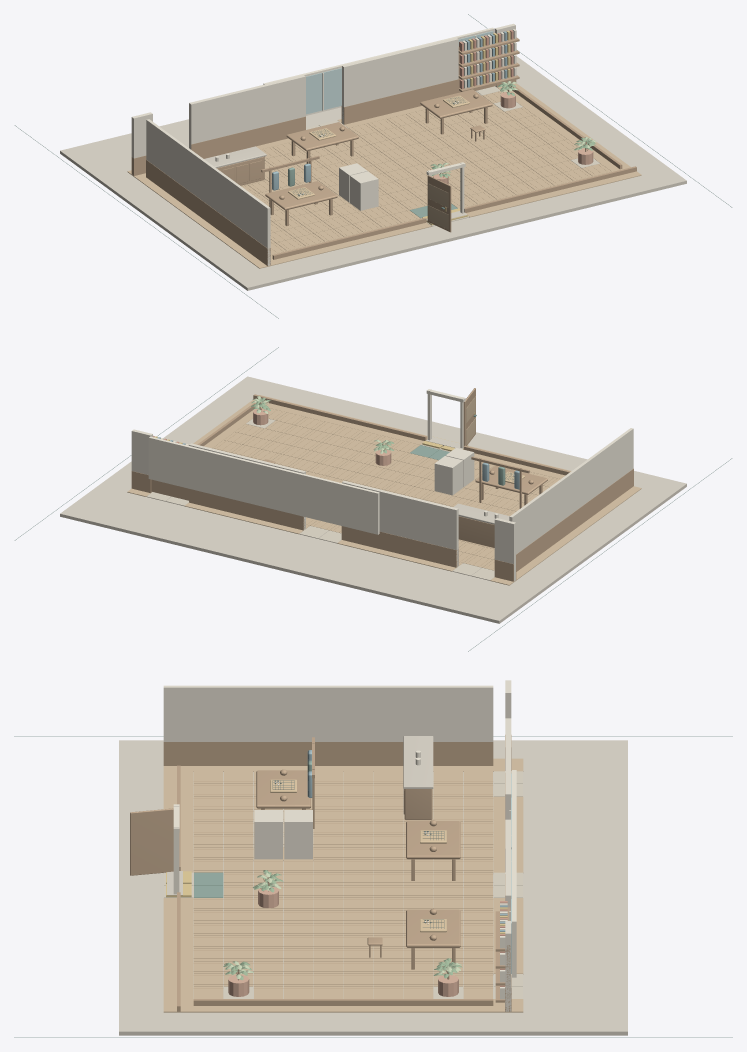
File: room.glb
The picture shows the model from 3 angles, top to bottom: view 1: azimuth 30°, elevation 25°; view 2: azimuth 150°, elevation 25°; view 3: azimuth 270°, elevation 25°; orthographic projection. The views are drawn at different scales.
Parts seen in each view (by area): view 1: wall foundation, building slab, wainscot, cutaway wall, cup, cold glass, coat, book, door threshold, goban, terracotta planter, surrounding corridor seam (+2 smaller); view 2: building slab, wall foundation, wainscot, cutaway wall, cup, ground, surrounding corridor seam; view 3: wall foundation, building slab, wainscot, cutaway wall, cup, ground, terracotta planter, goban, surrounding corridor seam, individual ficus leaves, ground.174.
Part boxes in pixels (bbox=[...]): wall foundation: bbox=[127, 83, 641, 268]; building slab: bbox=[60, 56, 686, 290]; wainscot: bbox=[131, 37, 636, 265]; cutaway wall: bbox=[131, 23, 515, 265]; cup: bbox=[215, 27, 516, 213]; cold glass: bbox=[306, 31, 493, 114]; coat: bbox=[272, 31, 507, 190]; book: bbox=[459, 30, 513, 89]; door threshold: bbox=[422, 30, 510, 225]; goban: bbox=[288, 95, 469, 199]; terracotta planter: bbox=[433, 92, 593, 184]; surrounding corridor seam: bbox=[14, 14, 732, 318]; building slab: bbox=[60, 376, 686, 623]; wall foundation: bbox=[127, 395, 641, 585]; wainscot: bbox=[131, 388, 633, 581]; cutaway wall: bbox=[131, 428, 633, 581]; cup: bbox=[148, 389, 498, 534]; ground: bbox=[146, 418, 494, 580]; surrounding corridor seam: bbox=[14, 347, 732, 651]; wall foundation: bbox=[163, 758, 523, 1012]; building slab: bbox=[119, 736, 627, 1035]; wainscot: bbox=[130, 735, 511, 1011]; cutaway wall: bbox=[163, 680, 511, 1011]; cup: bbox=[173, 750, 516, 999]; ground: bbox=[164, 771, 522, 998]; terracotta planter: bbox=[228, 887, 458, 996]; goban: bbox=[270, 779, 446, 932]; surrounding corridor seam: bbox=[14, 736, 732, 1037]; individual ficus leaves: bbox=[223, 870, 462, 980]; ground.174: bbox=[194, 760, 311, 897].
Size of what is drawn, in the model's own units: 19.01 by 2.45 by 19.2.
